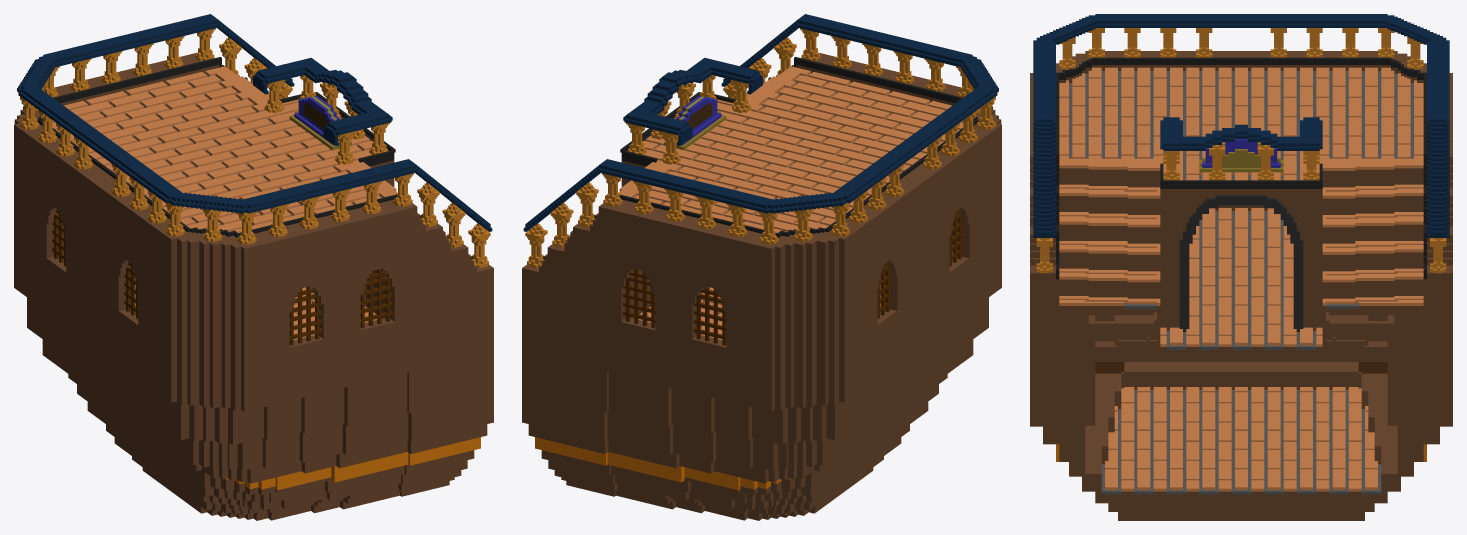
The model's file is ship-8.obj.
3 renders of one model, left to right at view 1: azimuth 30°, elevation 25°; view 2: azimuth 150°, elevation 25°; view 3: azimuth 270°, elevation 25°, orthographic.
Bounding box in the file's own units: 10.4 × 12.6 × 13.
Materials: 1 (1 with a texture image).
